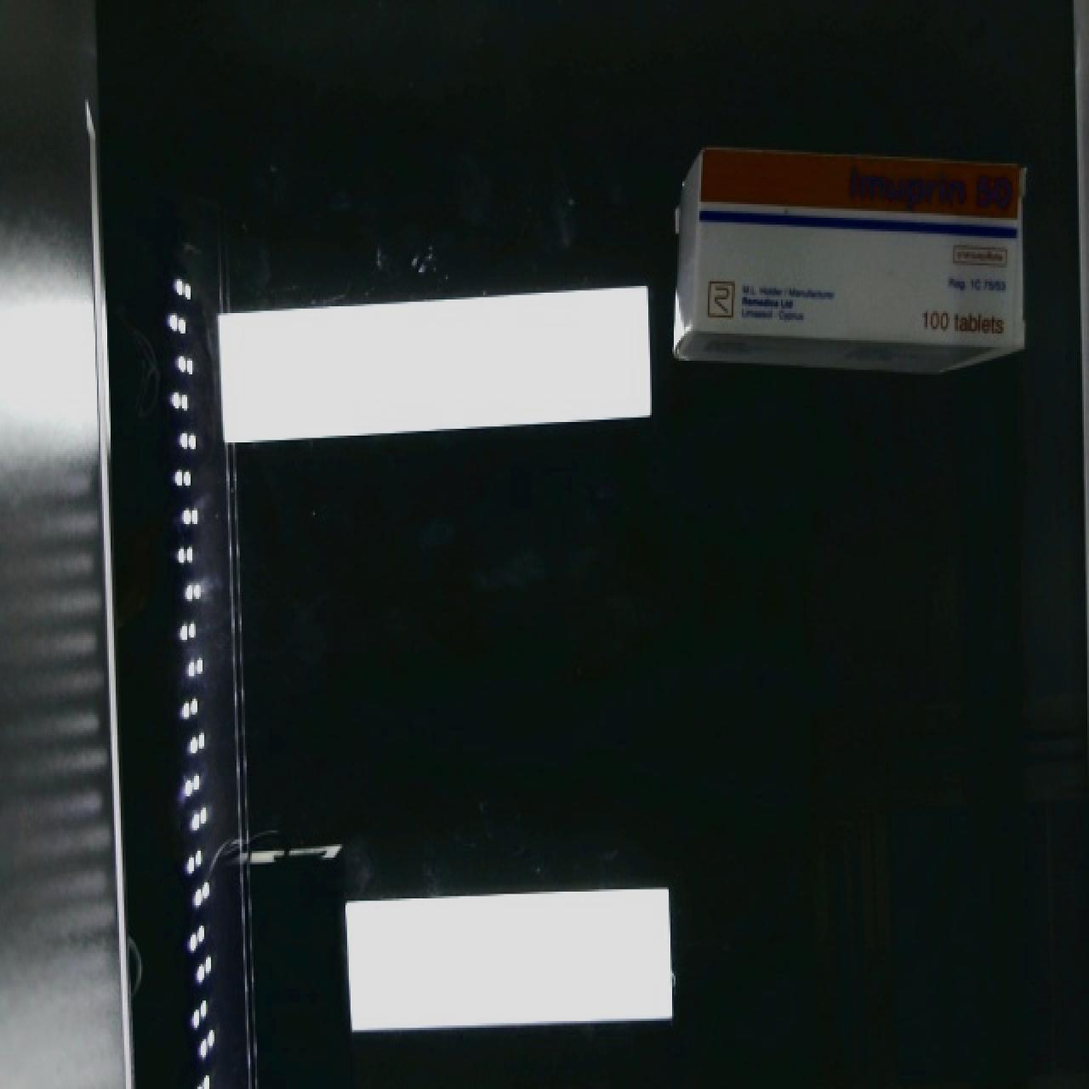medicine_label_obb: (832, 148, 1028, 229)
